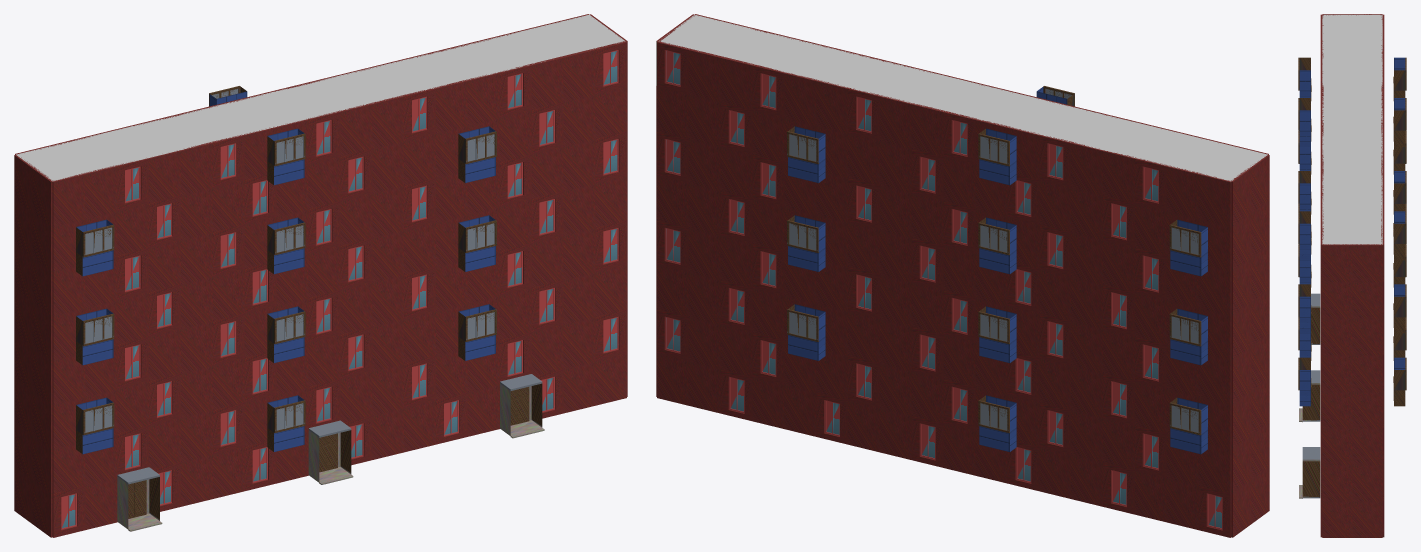
The model's file is house.obj.
The picture shows the model from 3 angles, left to right: view 1: azimuth 30°, elevation 25°; view 2: azimuth 150°, elevation 25°; view 3: azimuth 270°, elevation 25°; orthographic projection. The views are drawn at different scales.
Visible parts, largest first — view 1: geometry_0, geometry_188, geometry_187, geometry_189, geometry_195, geometry_192, geometry_190, geometry_193, geometry_194, geometry_197, geometry_198, geometry_199 (+146 smaller); view 2: geometry_0, geometry_391, geometry_388, geometry_386, geometry_389, geometry_390, geometry_393, geometry_394, geometry_395, geometry_387, geometry_392, geometry_362 (+149 smaller); view 3: geometry_0, geometry_418, geometry_422, geometry_426, geometry_427, geometry_419, geometry_423, geometry_412, geometry_413, geometry_414, geometry_416, geometry_417 (+28 smaller).
Boxes of the visible parts, <box> form: geometry_0: <box>16,15,625,181</box>; geometry_188: <box>308,420,353,484</box>; geometry_187: <box>117,467,162,531</box>; geometry_189: <box>500,374,544,438</box>; geometry_195: <box>458,215,496,271</box>; geometry_192: <box>458,304,496,360</box>; geometry_190: <box>267,395,305,451</box>; geometry_193: <box>267,306,305,363</box>; geometry_194: <box>76,308,114,365</box>; geometry_197: <box>76,219,114,276</box>; geometry_198: <box>458,126,496,183</box>; geometry_199: <box>267,128,305,185</box>; geometry_0: <box>658,15,1267,181</box>; geometry_391: <box>787,215,825,271</box>; geometry_388: <box>787,304,825,360</box>; geometry_386: <box>978,395,1016,451</box>; geometry_389: <box>978,306,1016,363</box>; geometry_390: <box>1169,308,1207,365</box>; geometry_393: <box>1169,219,1207,276</box>; geometry_394: <box>787,126,825,183</box>; geometry_395: <box>978,128,1016,185</box>; geometry_387: <box>1169,397,1207,454</box>; geometry_392: <box>978,217,1016,274</box>; geometry_362: <box>1198,173,1231,226</box>; geometry_0: <box>1322,14,1382,244</box>; geometry_418: <box>1322,391,1352,428</box>; geometry_422: <box>1322,318,1352,355</box>; geometry_426: <box>1322,244,1352,281</box>; geometry_427: <box>1352,244,1382,281</box>; geometry_419: <box>1352,391,1382,428</box>; geometry_423: <box>1352,318,1382,355</box>; geometry_412: <box>1322,501,1352,537</box>; geometry_413: <box>1352,501,1382,537</box>; geometry_414: <box>1322,465,1352,501</box>; geometry_416: <box>1322,428,1352,464</box>; geometry_417: <box>1352,428,1382,464</box>.
Bounding box in the file's own units: 54.3 × 32 × 10.75.
